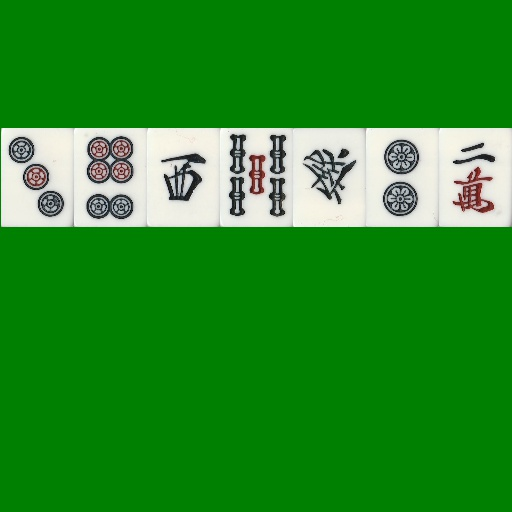2m: (439, 128, 512, 227)
2p: (366, 128, 439, 227)
3p: (1, 128, 74, 227)
5s: (220, 128, 293, 227)
6p: (74, 128, 147, 227)
hatsu: (293, 128, 366, 227)
west: (147, 128, 220, 227)
